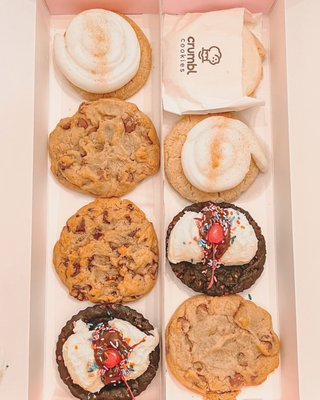sushi: (52, 10, 153, 102)
